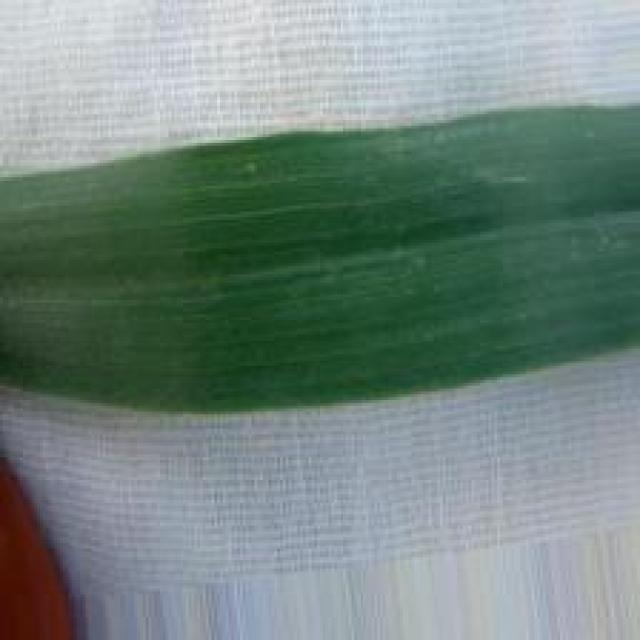Healthy: (0, 106, 640, 414)
